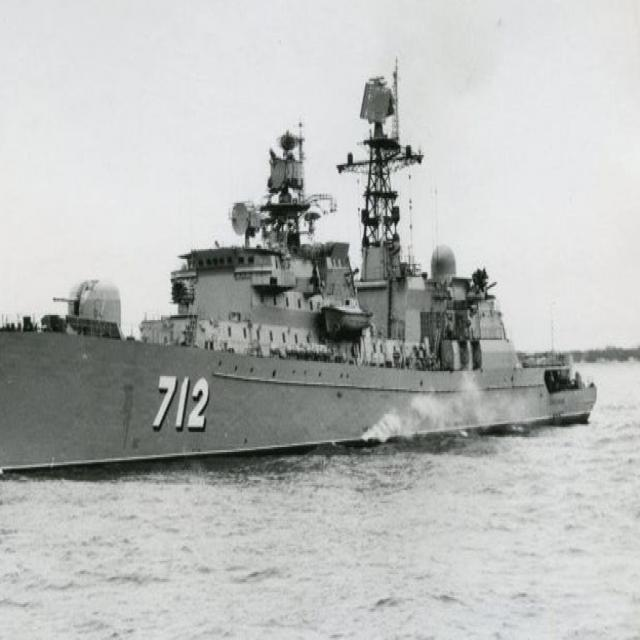Fragata: (1, 59, 602, 493)
